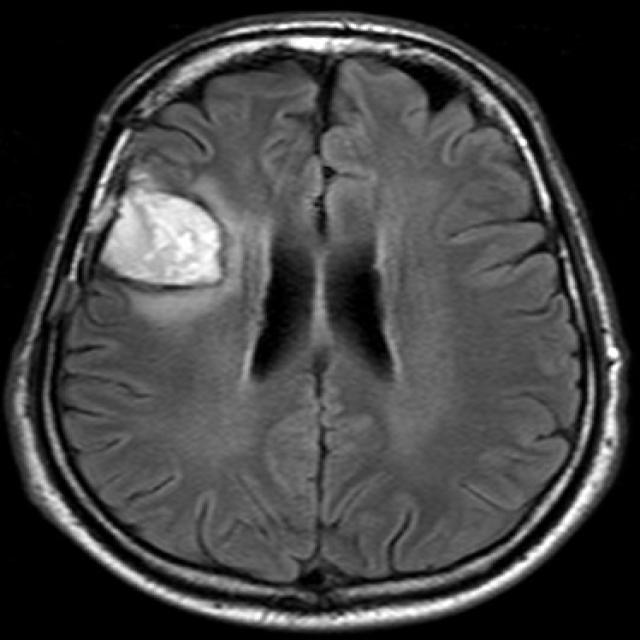Tumor-Cell: (94, 159, 231, 296)
